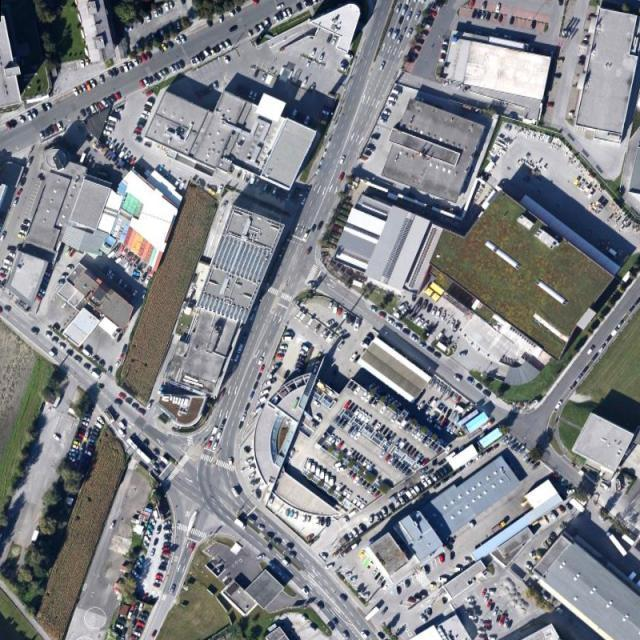vehicle: (127, 439, 151, 464), (366, 606, 380, 622), (104, 410, 116, 424), (348, 508, 362, 518), (235, 518, 246, 530), (107, 115, 121, 123), (107, 250, 118, 260), (378, 60, 387, 72), (343, 400, 353, 410), (406, 490, 415, 501), (390, 88, 402, 96), (82, 349, 92, 358), (91, 370, 100, 380), (230, 488, 239, 498), (332, 416, 342, 425), (390, 413, 399, 423), (229, 24, 238, 34), (160, 457, 170, 466), (211, 427, 219, 438), (296, 2, 304, 13), (318, 53, 326, 64), (123, 151, 131, 162), (554, 402, 562, 413), (142, 270, 149, 282), (305, 318, 314, 327), (319, 552, 328, 561), (313, 325, 322, 334), (117, 429, 126, 438), (411, 429, 420, 438), (360, 413, 369, 422), (360, 392, 369, 401), (434, 332, 444, 340), (275, 2, 285, 10), (350, 352, 358, 362), (378, 424, 386, 434), (138, 614, 148, 622), (18, 116, 26, 126), (30, 328, 40, 336), (410, 487, 418, 497), (246, 516, 256, 524), (54, 397, 61, 408), (2, 259, 13, 266), (476, 382, 484, 391), (482, 390, 491, 398), (598, 344, 606, 353), (586, 346, 594, 355), (298, 313, 307, 321), (174, 36, 182, 45), (354, 318, 360, 330), (48, 351, 57, 359), (115, 257, 124, 265), (387, 456, 396, 464), (152, 450, 161, 458), (385, 431, 394, 439), (392, 458, 400, 467), (398, 464, 406, 473), (397, 490, 406, 498), (334, 483, 342, 492), (330, 435, 338, 444), (360, 631, 368, 640), (575, 374, 583, 383), (454, 374, 462, 383), (398, 303, 408, 310), (115, 91, 122, 101), (248, 392, 255, 402), (244, 457, 254, 464), (303, 232, 310, 242), (407, 596, 417, 603), (207, 439, 214, 449), (339, 156, 346, 166), (310, 462, 316, 473), (327, 319, 335, 327), (294, 311, 302, 319), (254, 407, 262, 415), (106, 125, 114, 133), (326, 34, 334, 42), (386, 318, 394, 326), (282, 559, 290, 567), (318, 602, 326, 610), (402, 494, 410, 502), (354, 407, 362, 415), (351, 429, 359, 437), (313, 400, 321, 408), (4, 305, 12, 313), (98, 417, 106, 425), (52, 434, 60, 442), (382, 429, 390, 437), (348, 380, 356, 388), (414, 454, 422, 462), (400, 421, 408, 429), (409, 449, 417, 457), (402, 306, 410, 314), (132, 402, 140, 410), (138, 408, 146, 416), (357, 411, 365, 419), (105, 138, 113, 146), (118, 150, 126, 158), (402, 466, 410, 474), (426, 478, 434, 486), (334, 438, 342, 446), (427, 304, 434, 313), (338, 331, 347, 338), (111, 93, 118, 102), (333, 462, 342, 469), (98, 101, 105, 110), (223, 56, 230, 65), (225, 40, 232, 49), (422, 479, 429, 488), (86, 445, 95, 452), (23, 221, 32, 228), (383, 110, 392, 117), (414, 316, 421, 325), (203, 50, 210, 59), (310, 49, 317, 58), (120, 422, 127, 431), (286, 8, 293, 17), (390, 433, 397, 442), (354, 386, 361, 395), (405, 469, 414, 476), (346, 491, 353, 500), (326, 435, 335, 442), (337, 466, 346, 473), (531, 19, 537, 29), (339, 172, 345, 182), (415, 11, 421, 21), (49, 125, 55, 135), (500, 615, 506, 625), (176, 21, 182, 31), (496, 3, 502, 13), (466, 376, 474, 383), (435, 310, 442, 318), (591, 354, 599, 361), (146, 51, 153, 59), (306, 247, 314, 254), (102, 99, 109, 107), (387, 29, 394, 37), (310, 82, 317, 90), (174, 63, 181, 71), (170, 66, 177, 74), (154, 74, 162, 81), (143, 79, 150, 87), (146, 90, 154, 97), (142, 610, 150, 617), (343, 632, 350, 640), (342, 516, 350, 523), (374, 514, 381, 522), (367, 486, 374, 494), (315, 414, 322, 422), (91, 430, 98, 438), (294, 366, 302, 373), (420, 614, 427, 622), (348, 426, 355, 434), (341, 422, 348, 430), (366, 462, 373, 470), (415, 486, 422, 494), (374, 423, 382, 430), (422, 435, 429, 443), (418, 434, 426, 441), (414, 432, 422, 439), (116, 623, 124, 630), (370, 306, 378, 313), (421, 322, 429, 329), (194, 56, 201, 64), (83, 363, 91, 370), (159, 462, 166, 470), (274, 539, 282, 546), (420, 473, 428, 480), (347, 449, 354, 457), (611, 329, 618, 337), (315, 466, 320, 477), (45, 126, 50, 137), (387, 97, 398, 102), (139, 602, 145, 611), (336, 309, 342, 318), (526, 562, 532, 571), (486, 12, 492, 21), (90, 79, 96, 88), (317, 221, 323, 230), (396, 4, 402, 13), (80, 109, 86, 118), (57, 122, 63, 131), (139, 79, 145, 88), (130, 634, 139, 640), (170, 585, 176, 594), (161, 556, 170, 562), (326, 564, 335, 570), (365, 393, 371, 402), (360, 523, 366, 532), (419, 590, 428, 596), (454, 566, 463, 572), (463, 558, 472, 564), (133, 631, 142, 637), (284, 370, 290, 379), (142, 110, 151, 116), (140, 114, 149, 120), (42, 103, 48, 112), (345, 53, 354, 59), (256, 489, 262, 498), (165, 2, 170, 12), (74, 86, 79, 96), (320, 469, 325, 479), (81, 152, 86, 162), (306, 460, 311, 470), (256, 555, 266, 560), (405, 579, 410, 589), (326, 517, 331, 527), (107, 97, 114, 104), (419, 342, 426, 349), (417, 320, 424, 327), (341, 594, 348, 601), (431, 474, 438, 481), (360, 503, 367, 510), (378, 632, 385, 639), (372, 568, 379, 575), (154, 464, 161, 471), (69, 455, 76, 462), (407, 426, 414, 433), (143, 542, 150, 549), (379, 312, 386, 319), (180, 36, 187, 43), (286, 543, 293, 550), (288, 551, 295, 558), (98, 360, 105, 367), (258, 525, 265, 532), (371, 420, 378, 427), (422, 301, 428, 309), (334, 328, 342, 334), (26, 114, 32, 122), (266, 380, 274, 386), (117, 106, 125, 112), (283, 11, 289, 19), (407, 12, 413, 20), (407, 29, 413, 37), (397, 36, 403, 44), (402, 6, 408, 14), (139, 118, 147, 124), (145, 104, 153, 110), (302, 78, 308, 86), (332, 37, 338, 45), (146, 100, 154, 106), (380, 406, 386, 414), (135, 626, 143, 632), (152, 630, 158, 638), (328, 622, 334, 630), (147, 530, 153, 538), (127, 611, 133, 619), (358, 478, 364, 486), (357, 526, 363, 534), (395, 500, 401, 508), (338, 440, 344, 448), (258, 357, 264, 365), (212, 442, 218, 450), (207, 19, 213, 27), (88, 438, 96, 444), (90, 435, 98, 441), (70, 448, 78, 454), (490, 603, 496, 611), (424, 566, 430, 574), (156, 526, 162, 534), (75, 356, 83, 362), (108, 366, 114, 374), (147, 402, 153, 410), (260, 364, 266, 372), (110, 142, 116, 150), (145, 535, 151, 543), (553, 73, 562, 78), (555, 57, 564, 62), (333, 303, 338, 312), (146, 14, 151, 23), (1, 233, 6, 242), (162, 550, 171, 555), (151, 516, 156, 525), (382, 509, 387, 518), (477, 630, 486, 635), (466, 598, 475, 603), (19, 230, 28, 235), (100, 75, 105, 84), (330, 476, 334, 487), (498, 15, 504, 22), (31, 111, 37, 118), (6, 122, 12, 129), (395, 324, 402, 330), (403, 329, 410, 335), (108, 120, 115, 126), (264, 20, 271, 26), (274, 17, 280, 24), (130, 158, 136, 165), (210, 49, 216, 56), (178, 62, 184, 69), (147, 78, 153, 85), (148, 524, 154, 531), (110, 522, 116, 529), (267, 532, 274, 538), (378, 512, 384, 519), (347, 471, 354, 477), (352, 473, 358, 480), (364, 417, 371, 423), (380, 451, 386, 458), (356, 500, 362, 507), (92, 426, 99, 432), (74, 440, 81, 446), (362, 460, 369, 466), (386, 454, 392, 461), (433, 445, 439, 452), (437, 448, 444, 454), (351, 385, 358, 391), (415, 594, 422, 600), (52, 338, 59, 344), (59, 344, 66, 350), (396, 462, 402, 469), (46, 103, 52, 110), (473, 10, 478, 18), (546, 102, 554, 107), (128, 62, 133, 70), (123, 64, 128, 72), (108, 70, 113, 78), (86, 82, 91, 90), (82, 84, 87, 92), (262, 390, 270, 395), (3, 265, 11, 270), (1, 269, 9, 274), (230, 10, 235, 18), (90, 105, 95, 113), (136, 126, 144, 131), (153, 74, 158, 82), (370, 397, 375, 405), (153, 582, 161, 587), (350, 533, 355, 541), (353, 530, 358, 538), (69, 452, 77, 457), (217, 431, 222, 439), (481, 590, 486, 598), (474, 612, 482, 617), (397, 586, 402, 594), (190, 544, 195, 552), (279, 346, 289, 350), (277, 350, 287, 354), (388, 101, 396, 106), (18, 234, 26, 239), (67, 266, 75, 271), (254, 382, 259, 390), (238, 422, 243, 430), (428, 347, 434, 353), (311, 226, 317, 232), (283, 337, 292, 341), (95, 103, 99, 112), (134, 130, 140, 136), (258, 24, 264, 30), (86, 108, 92, 114), (220, 44, 226, 50), (436, 472, 442, 478), (496, 616, 502, 622), (450, 553, 456, 559), (429, 584, 438, 588), (277, 354, 286, 358), (80, 61, 84, 70), (59, 275, 68, 279), (46, 332, 52, 338), (120, 393, 126, 399), (126, 398, 132, 404), (321, 517, 325, 526), (316, 517, 320, 526), (450, 322, 455, 329), (342, 313, 347, 320), (134, 60, 139, 67), (154, 11, 159, 18), (162, 43, 167, 50), (138, 122, 145, 127), (40, 132, 45, 139), (159, 566, 166, 571), (67, 350, 74, 355), (353, 498, 358, 505), (241, 415, 246, 422), (285, 509, 290, 516), (269, 497, 274, 504), (487, 600, 492, 607), (493, 609, 498, 616), (440, 555, 445, 562), (246, 404, 251, 411), (482, 2, 486, 10), (418, 298, 422, 306), (482, 11, 486, 19), (510, 17, 514, 25), (158, 7, 162, 15), (170, 2, 174, 10), (142, 54, 146, 62), (138, 56, 142, 64), (114, 67, 118, 75), (325, 474, 329, 482), (137, 622, 145, 626), (163, 546, 171, 550), (154, 538, 158, 546), (294, 512, 298, 520), (84, 418, 92, 422), (164, 534, 172, 538), (58, 281, 66, 285), (569, 112, 575, 117), (137, 138, 143, 143), (150, 549, 155, 555), (164, 521, 170, 526), (343, 490, 348, 496), (351, 577, 357, 582), (257, 374, 262, 380), (220, 424, 225, 430), (504, 620, 509, 626), (113, 145, 118, 151), (477, 12, 481, 19), (412, 295, 416, 302), (461, 352, 468, 356), (219, 16, 223, 23), (85, 59, 89, 66), (165, 542, 172, 546), (155, 579, 162, 583), (160, 562, 167, 566), (290, 510, 294, 517), (85, 450, 92, 454), (302, 515, 306, 522), (509, 622, 513, 629), (165, 538, 172, 542), (164, 526, 171, 530), (354, 477, 359, 482), (494, 14, 498, 20), (166, 530, 172, 534), (308, 514, 311, 522), (83, 422, 89, 426), (488, 637, 496, 640), (428, 609, 431, 617), (483, 2, 486, 10), (229, 459, 232, 466), (371, 516, 374, 523), (249, 466, 254, 470), (274, 366, 280, 369)
